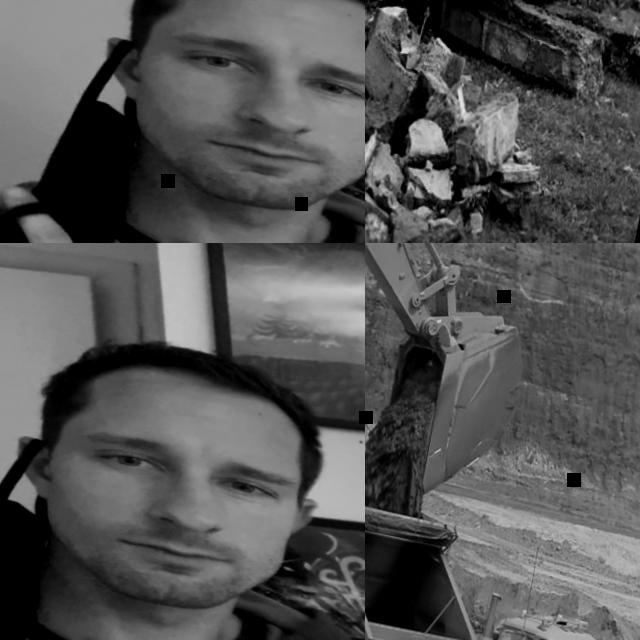machinery: (365, 440, 640, 640), (365, 243, 567, 513)
no_helmet: (31, 322, 333, 447), (121, 0, 365, 47)
no_mask: (1, 466, 312, 630), (90, 66, 365, 230)
no_vest: (0, 167, 365, 243), (0, 566, 365, 640)
person: (0, 294, 365, 640), (0, 0, 365, 243)
